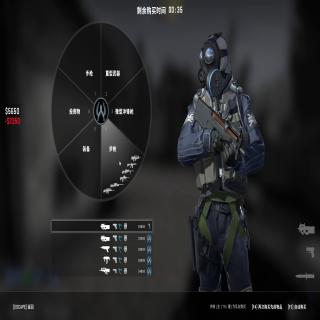CT-Head: (196, 31, 228, 83)
